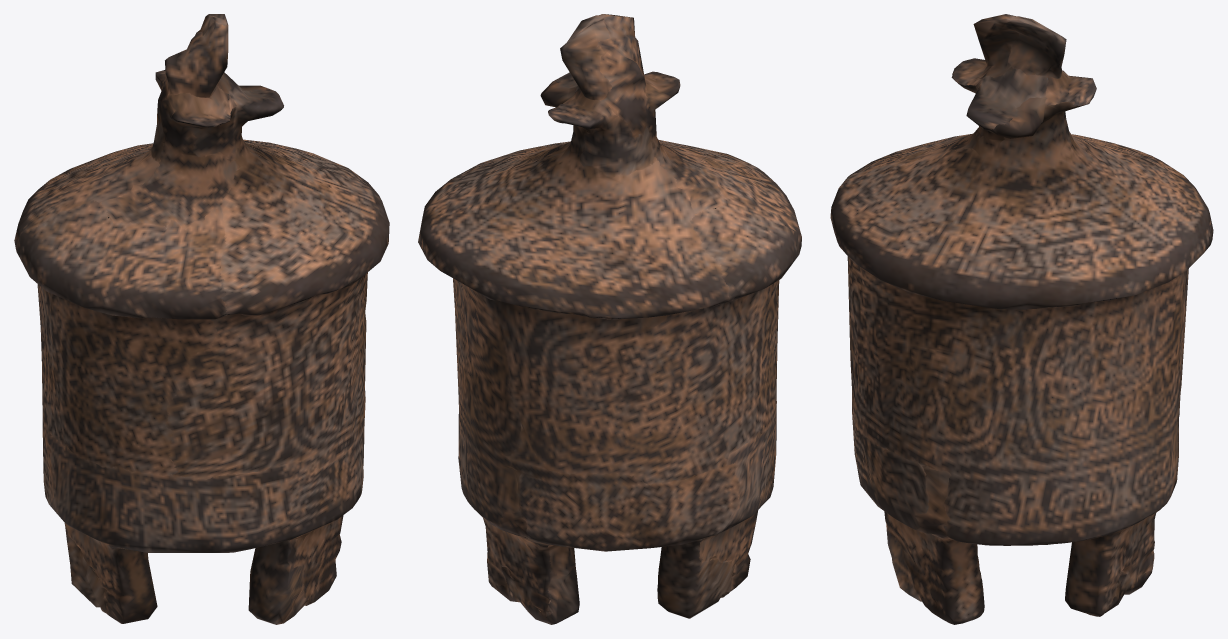
The model's file is Vessel 1.fbx.
3 renders of one model, left to right at view 1: azimuth 30°, elevation 25°; view 2: azimuth 150°, elevation 25°; view 3: azimuth 270°, elevation 25°, orthographic.
Visible parts, largest first — view 1: Vessel_1; view 2: Vessel_1; view 3: Vessel_1.
Part boxes in pixels (x1,y1,x2,y2): Vessel_1: (14, 14, 389, 624); Vessel_1: (418, 14, 801, 624); Vessel_1: (830, 14, 1213, 624).
Size of the model in its own units: 48.22 by 78.79 by 47.98.
1 material, 1 textured.
